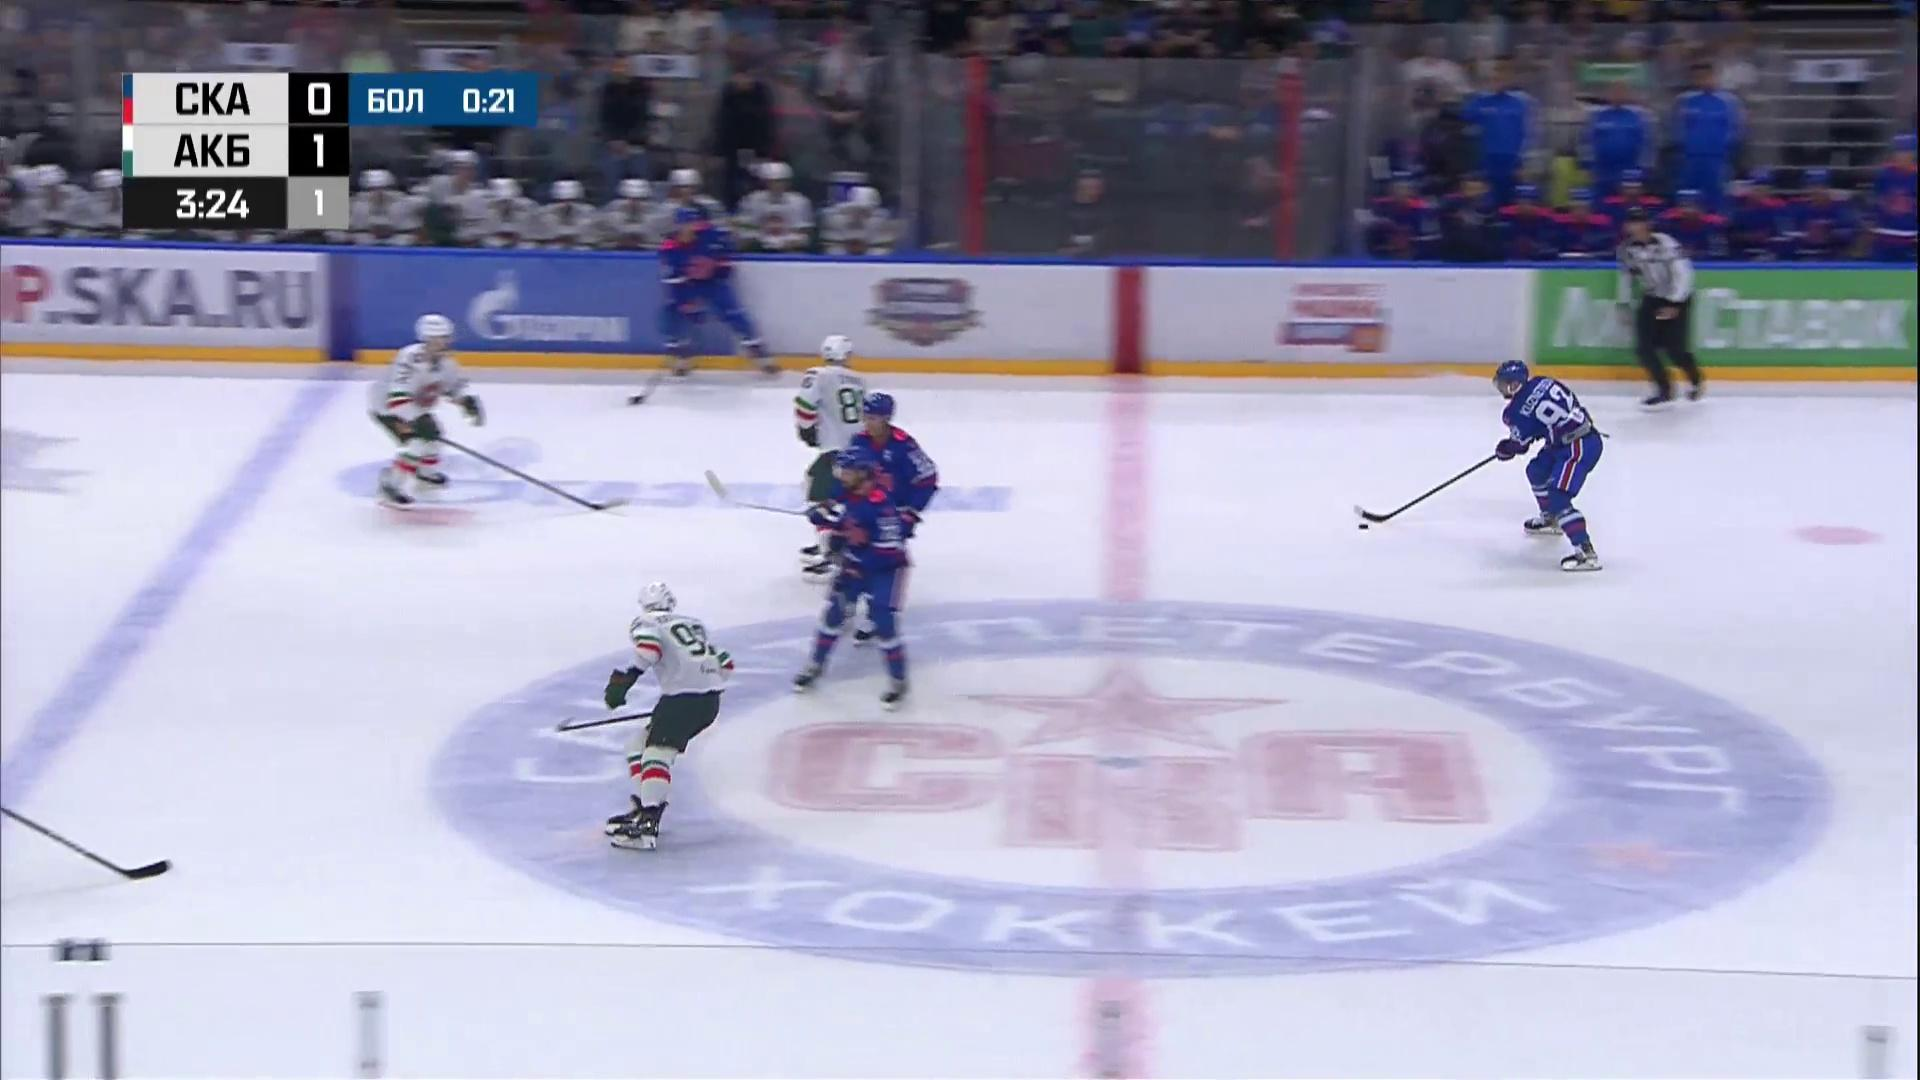ball: (1358, 524, 1370, 529)
